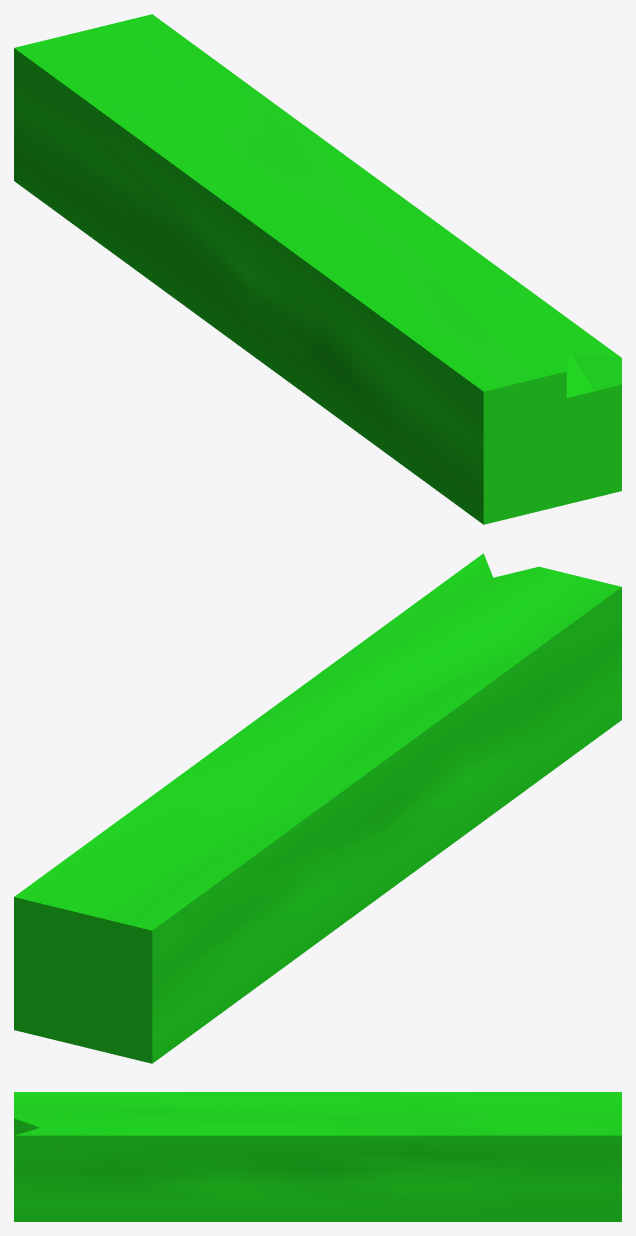
The model's file is wood_log_1m.fbx.
3 renders of one model, top to bottom at view 1: azimuth 30°, elevation 25°; view 2: azimuth 150°, elevation 25°; view 3: azimuth 270°, elevation 25°, orthographic. The views are drawn at different scales.
Parts seen in each view (by area): view 1: wood_log_1m; view 2: wood_log_1m; view 3: wood_log_1m.
Boxes of the visible parts, x1,y1,x2,y2 form: wood_log_1m: (14,14,621,524); wood_log_1m: (14,553,621,1063); wood_log_1m: (14,1092,621,1221).
Size of the model in its own units: 0.17 by 0.16 by 1.
